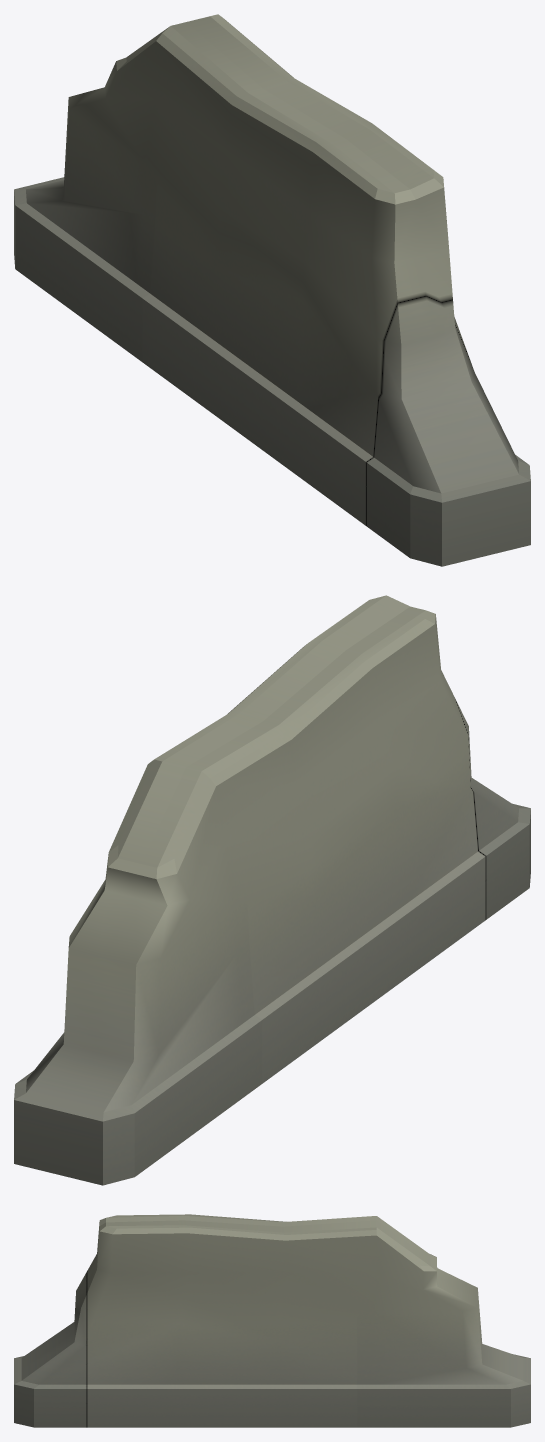
File: wall02.fbx
3 renders of one model, top to bottom at view 1: azimuth 30°, elevation 25°; view 2: azimuth 150°, elevation 25°; view 3: azimuth 270°, elevation 25°, orthographic. The views are drawn at different scales.
Parts seen in each view (by area): view 1: wall02; view 2: wall02; view 3: wall02.
Boxes of the visible parts, <box> form: wall02: <box>14,14,530,566</box>; wall02: <box>14,595,530,1185</box>; wall02: <box>14,1214,530,1427</box>.
Bounding box in the file's own units: 1.34 × 3.44 × 8.31.
